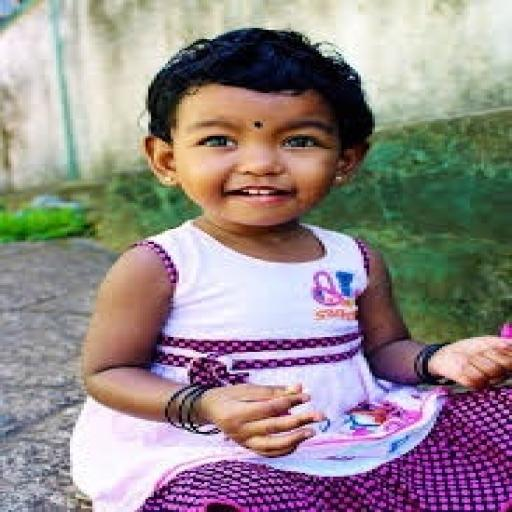laughing: (64, 22, 510, 510)
